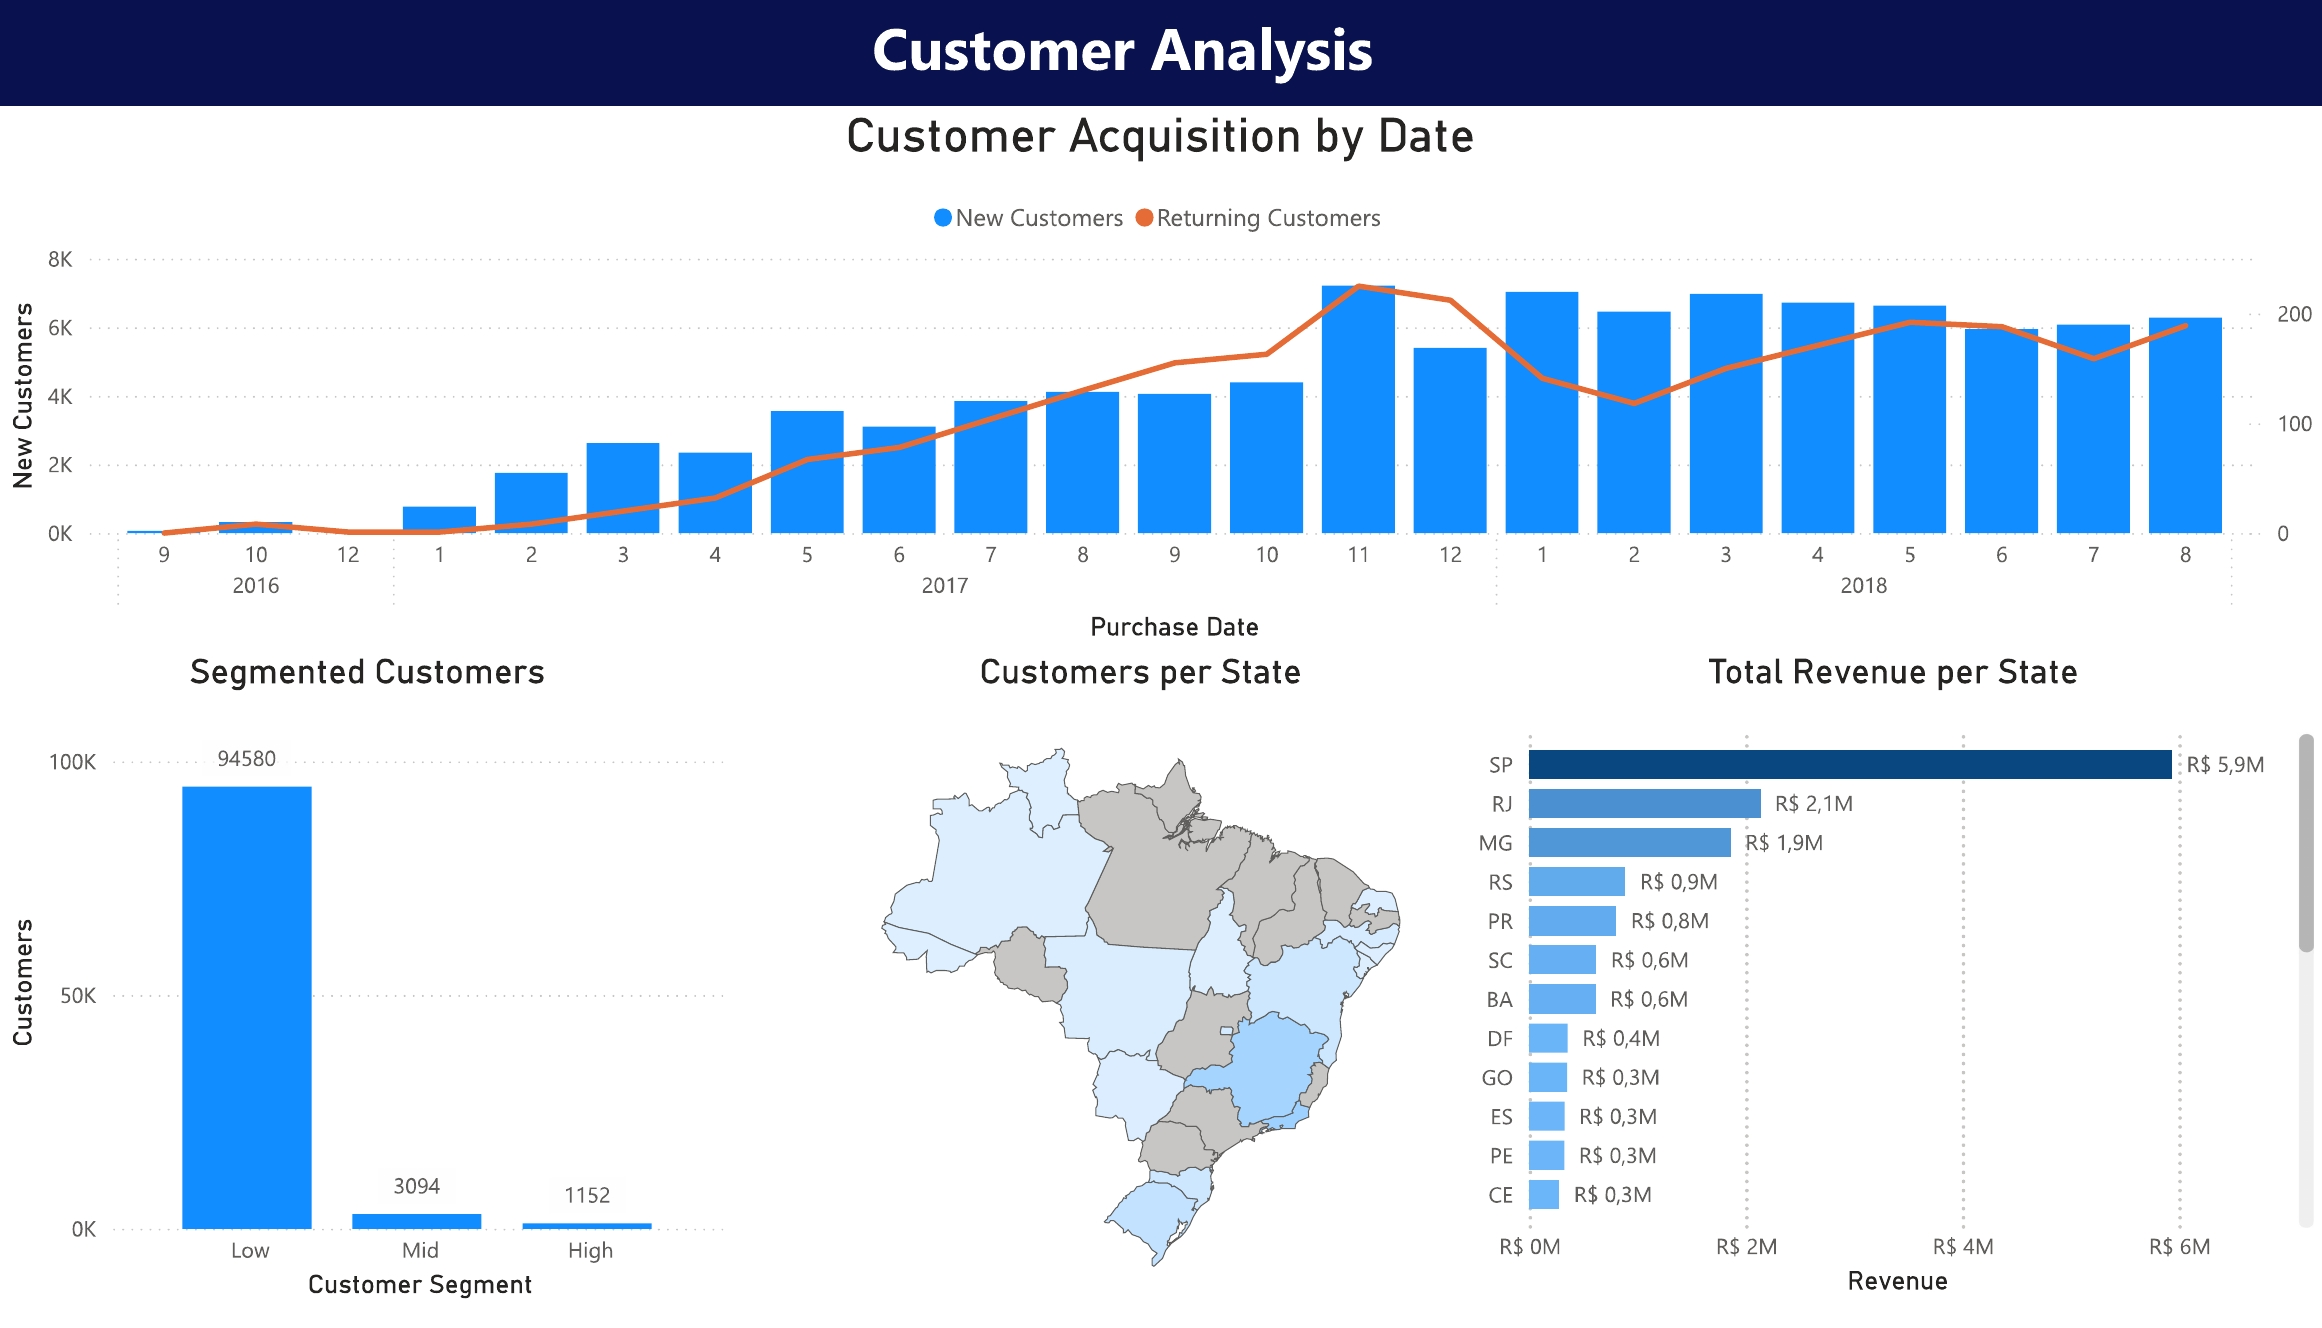

The dashboard page shown, as its layout file describes it:
{"tool":"powerbi","page":{"name":"Page 3","canvas":[1280,720],"ordinal":2},"visuals":[{"type":"lineClusteredColumnComboChart","title":"Segmented Customers","fields":{"Y":["Sum(customer_lifetime_value_segmentation.total_customers)"],"Category":["customer_lifetime_value_segmentation.customer_segment_clean"]},"box":[0,359.5,406.2,362.5],"z":0},{"type":"shape","box":[0,0,1280,59.7],"z":1000},{"type":"textbox","box":[476,0,329.3,59.7],"z":2000},{"type":"lineClusteredColumnComboChart","title":"Customer Acquisition by Date","fields":{"Category":["customer_acquistion_by_month.purchase_year","customer_acquistion_by_month.purchase_month"],"Y":["Sum(customer_acquistion_by_month.new_customers)"],"Y2":["Sum(customer_acquistion_by_month.returning_customers)"]},"box":[0,59.7,1280,300.7],"z":3000},{"type":"shapeMap","title":"Customers per State","fields":{"Category":["geographic_customer_distribution.state_full_name"],"Value":["Sum(geographic_customer_distribution.total_customers)"]},"box":[451.5,359.9,354.7,359.9],"z":4000},{"type":"barChart","title":"Total Revenue per State","fields":{"Category":["geographic_customer_distribution.customer_state"],"Y":["Sum(geographic_customer_distribution.total_revenue)"]},"box":[807,360,473,360],"z":5000}]}

Visuals, with their boxes in screenshot pixels (x1, y1, x2, y2), scaled from the page's 1280x720 canvas onto the 2322x1328 screenshot:
"Segmented Customers" lineClusteredColumnComboChart: (0, 663, 737, 1327)
shape: (0, 0, 2321, 110)
textbox: (863, 0, 1461, 110)
"Customer Acquisition by Date" lineClusteredColumnComboChart: (0, 110, 2321, 665)
"Customers per State" shapeMap: (819, 664, 1462, 1327)
"Total Revenue per State" barChart: (1464, 664, 2321, 1327)
